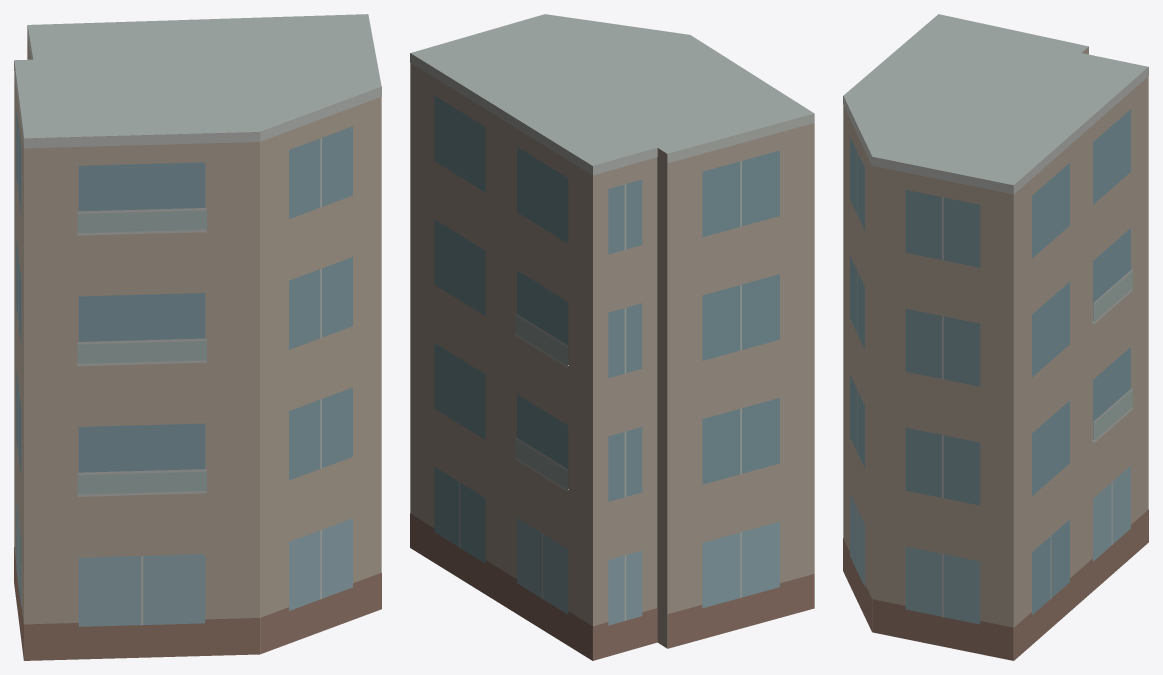
The model's file is survey-upis-32727000.glb.
3 views of the same model, side by side, from view 1: azimuth 30°, elevation 25°; view 2: azimuth 150°, elevation 25°; view 3: azimuth 270°, elevation 25° (orthographic). The views are drawn at different scales.
Parts seen in each view (by area): view 1: survey-upis-32727000.tmp; view 2: survey-upis-32727000.tmp; view 3: survey-upis-32727000.tmp.
Boxes of the visible parts, x1,y1,x2,y2 form: survey-upis-32727000.tmp: (14, 14, 381, 660); survey-upis-32727000.tmp: (410, 14, 814, 660); survey-upis-32727000.tmp: (843, 14, 1148, 660).
Size of the model in its own units: 9.82 by 12.7 by 7.4.
